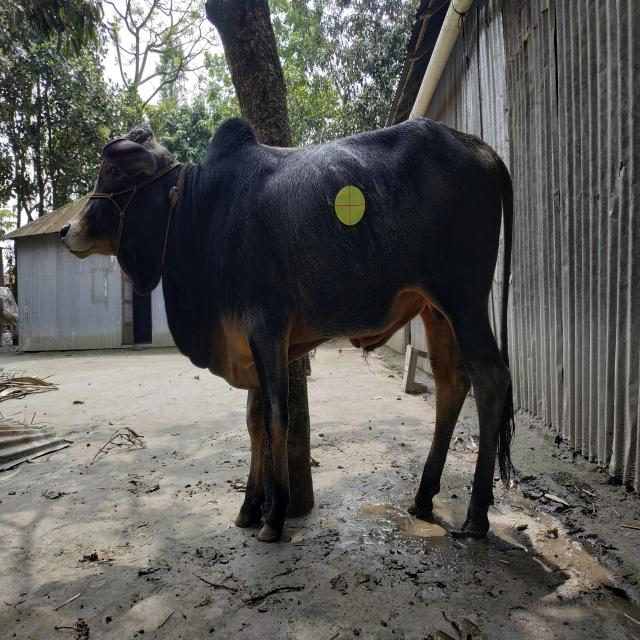badan_sapi: (200, 134, 506, 350)
sapi: (54, 110, 540, 558)
